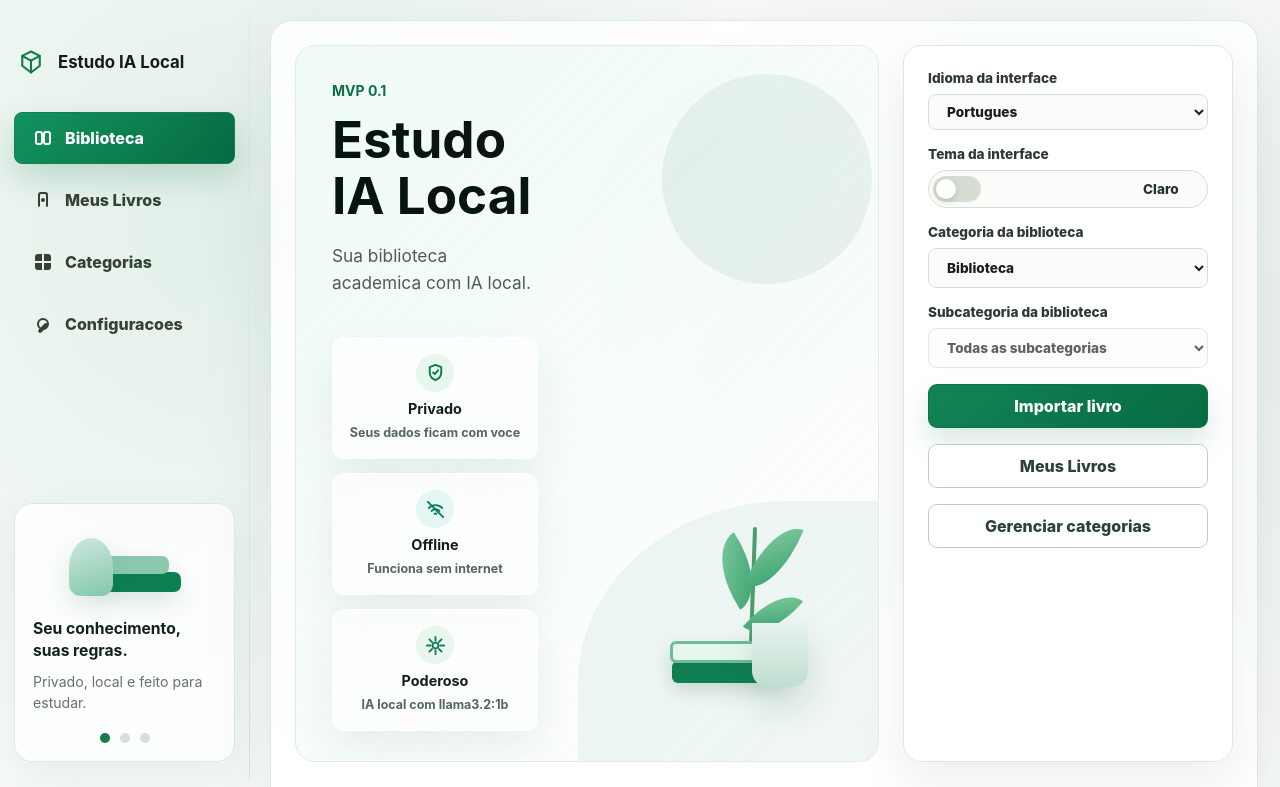
Scenario: App › uses the saved default study category when opening the import dialog
Click the button "Importar livro". click: click(1068, 406)
box: x1=928 y1=384 x2=1208 y2=428
(page scrolled)
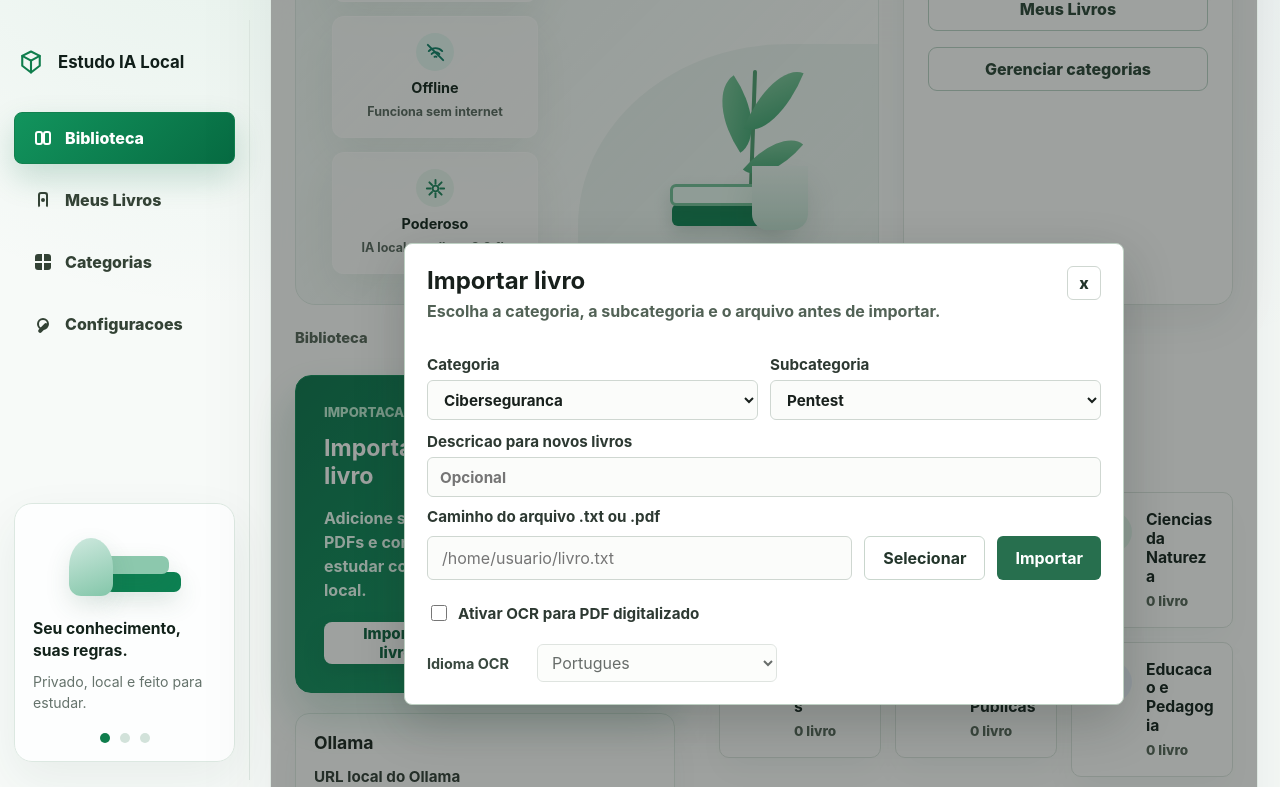
Check: the dropdown labelled "Categoria" shows "Ciberseguranca", box x1=427 y1=380 x2=758 y2=420
Check: the dropdown labelled "Subcategoria" shows "Pentest", box x1=770 y1=380 x2=1101 y2=420
